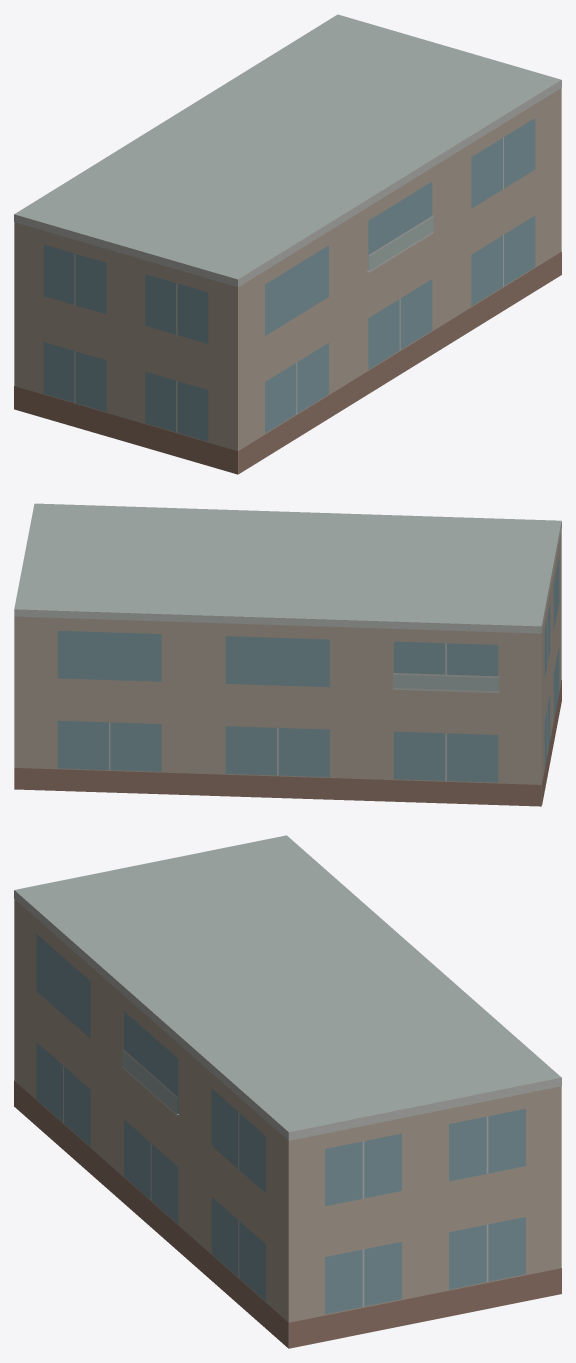
The model's file is survey-upis-32704803.glb.
The picture shows the model from 3 angles, top to bottom: view 1: azimuth 30°, elevation 25°; view 2: azimuth 150°, elevation 25°; view 3: azimuth 270°, elevation 25°; orthographic projection. The views are drawn at different scales.
Visible parts, largest first — view 1: survey-upis-32704803.tmp; view 2: survey-upis-32704803.tmp; view 3: survey-upis-32704803.tmp.
Part boxes in pixels (left/top/right/bottom): survey-upis-32704803.tmp: left=14, top=14, right=561, bottom=474; survey-upis-32704803.tmp: left=14, top=503, right=561, bottom=806; survey-upis-32704803.tmp: left=14, top=835, right=561, bottom=1348.
Size of the model in its own units: 17.97 by 6.1 by 14.
